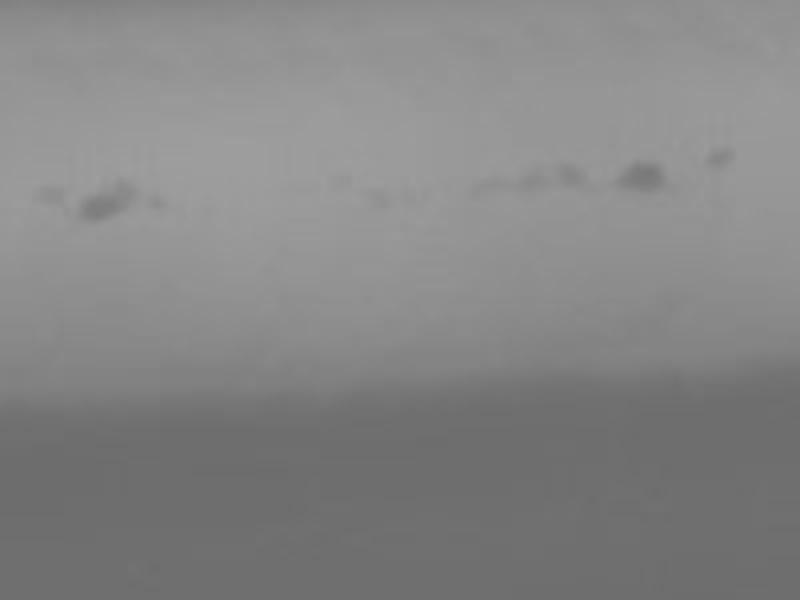defect: (77, 189, 136, 220), (615, 158, 663, 196), (462, 172, 512, 198), (509, 163, 548, 195), (553, 156, 587, 189), (32, 181, 67, 206), (705, 143, 739, 165), (147, 186, 172, 211), (326, 168, 357, 185), (368, 184, 391, 204)
